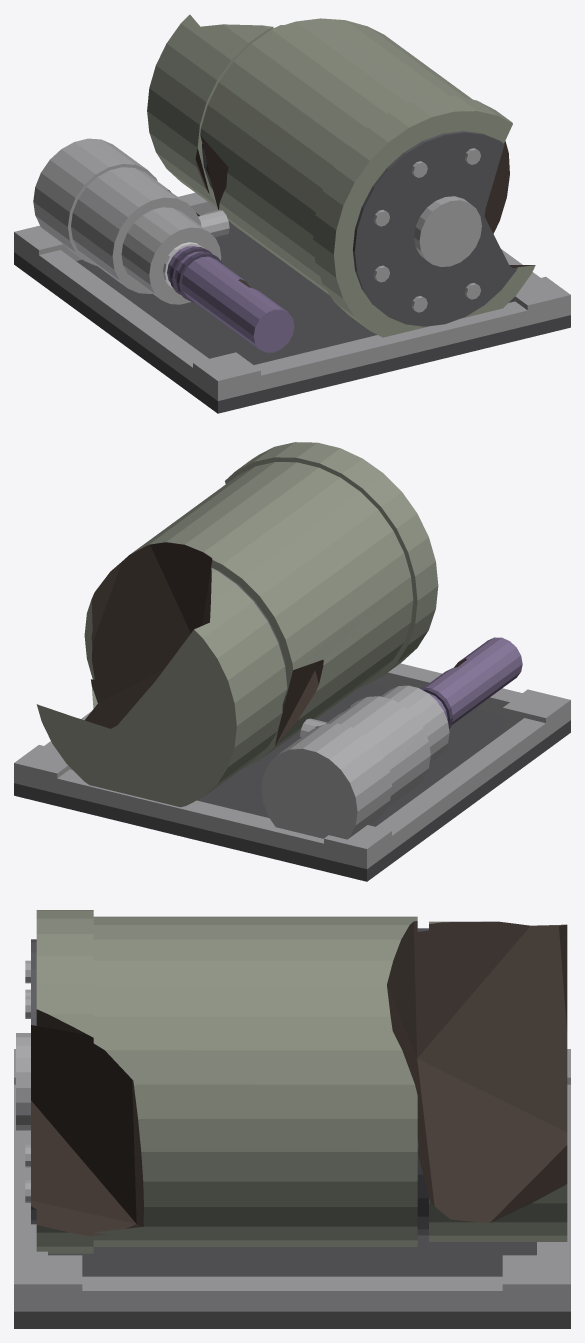
The model's file is vge_d_industrialastrofuelgenerator.obj.
The picture shows the model from 3 angles, top to bottom: view 1: azimuth 30°, elevation 25°; view 2: azimuth 150°, elevation 25°; view 3: azimuth 270°, elevation 25°; orthographic projection. The views are drawn at different scales.
Parts seen in each view (by area): view 1: vge_d_industrialastrofuelgenerator; view 2: vge_d_industrialastrofuelgenerator; view 3: vge_d_industrialastrofuelgenerator.
Part boxes in pixels (bbox=[...]): vge_d_industrialastrofuelgenerator: bbox=[14, 14, 570, 413]; vge_d_industrialastrofuelgenerator: bbox=[14, 442, 570, 881]; vge_d_industrialastrofuelgenerator: bbox=[14, 910, 570, 1328].
Size of the model in its own units: 2.47 by 1.58 by 2.47.
